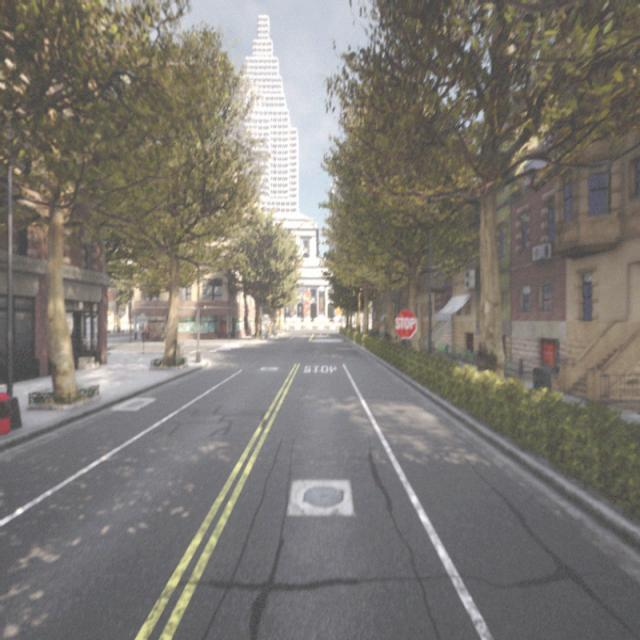stop sign: (392, 306, 419, 341), (394, 314, 416, 332)
